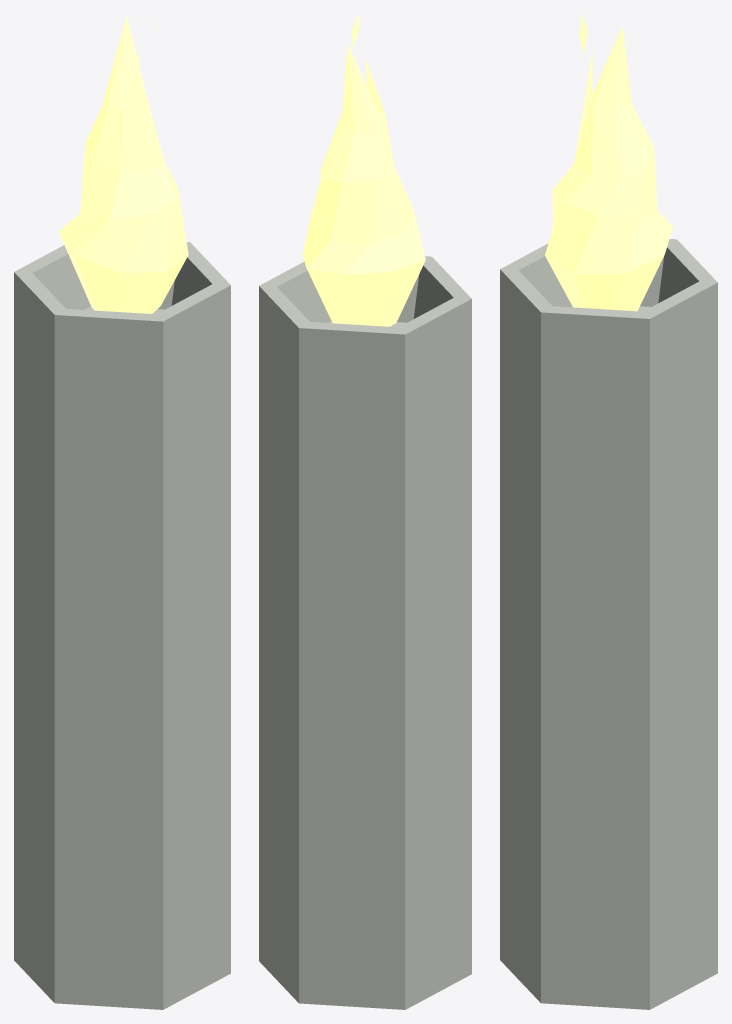
File: candle_4.fbx
3 renders of one model, left to right at view 1: azimuth 30°, elevation 25°; view 2: azimuth 150°, elevation 25°; view 3: azimuth 270°, elevation 25°, orthographic. The views are drawn at different scales.
Parts seen in each view (by area): view 1: candle_4; view 2: candle_4; view 3: candle_4.
Part boxes in pixels (box(x1,y1,x2,y2)): candle_4: box(14, 16, 230, 1009); candle_4: box(259, 15, 471, 1009); candle_4: box(500, 14, 717, 1009).
Bounding box in the file's own units: 5.48 × 28.44 × 5.84.
